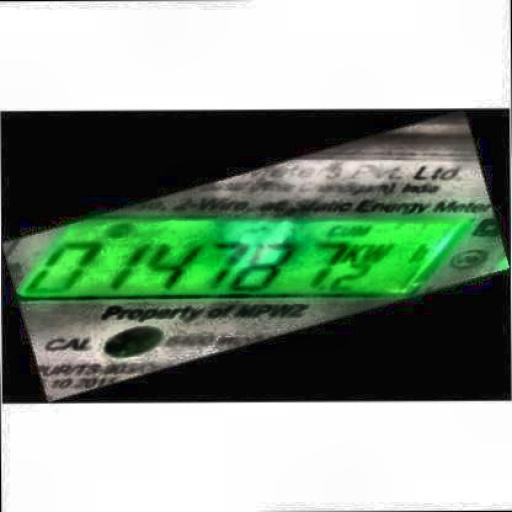DISPLAY_REGION: (15, 212, 473, 298)
SERIAL_REGION: (22, 239, 395, 292)
